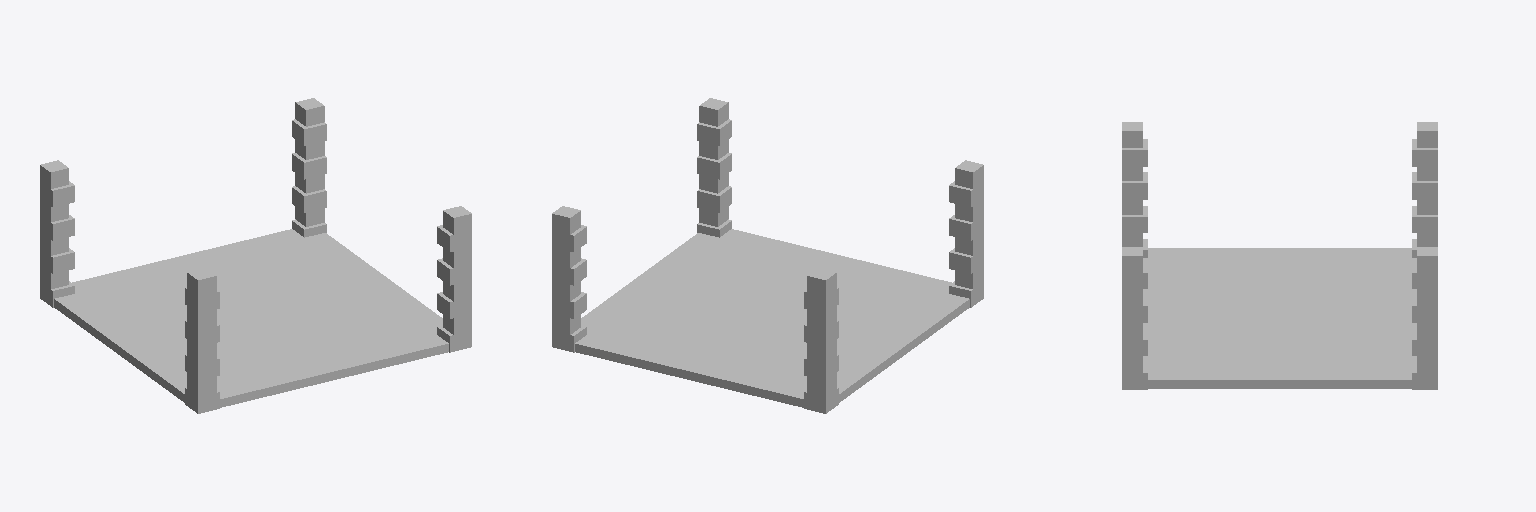
File: intersection_4way_05.obj
The picture shows the model from 3 angles: view 1: azimuth 30°, elevation 25°; view 2: azimuth 150°, elevation 25°; view 3: azimuth 270°, elevation 25°; orthographic projection.
Parts seen in each view (by area): view 1: floor_01_73, wall_borderBricks_98, wall_borderBricks_97, wall_borderBricks_95, wall_borderBricks_96; view 2: floor_01_73, wall_borderBricks_95, wall_borderBricks_96, wall_borderBricks_98, wall_borderBricks_97; view 3: floor_01_73, wall_borderBricks_96, wall_borderBricks_97, wall_borderBricks_95, wall_borderBricks_98.
Part boxes in pixels (x1,y1,x2,y2): floor_01_73: (54,229,448,407); wall_borderBricks_98: (185,268,219,413); wall_borderBricks_97: (437,206,471,352); wall_borderBricks_95: (40,160,74,307); wall_borderBricks_96: (292,98,326,237); floor_01_73: (575,229,969,407); wall_borderBricks_95: (804,268,838,413); wall_borderBricks_96: (552,206,586,352); wall_borderBricks_98: (949,160,983,307); wall_borderBricks_97: (697,98,731,237); floor_01_73: (1143,248,1416,388); wall_borderBricks_96: (1412,247,1437,389); wall_borderBricks_97: (1122,247,1147,389); wall_borderBricks_95: (1412,122,1437,257); wall_borderBricks_98: (1122,122,1147,257).
Bounding box in the file's own units: 2.15 × 1 × 2.15.